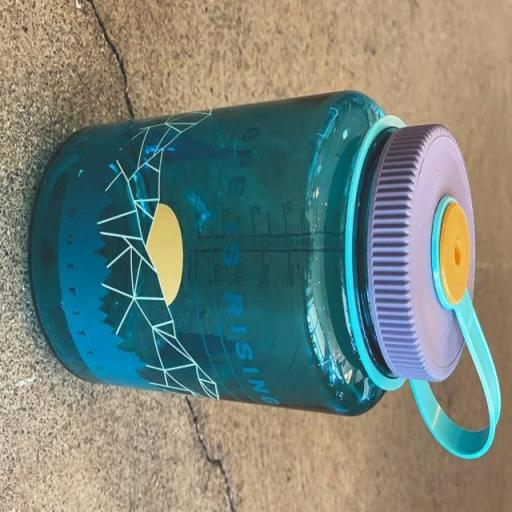bottle: (25, 86, 506, 472)
